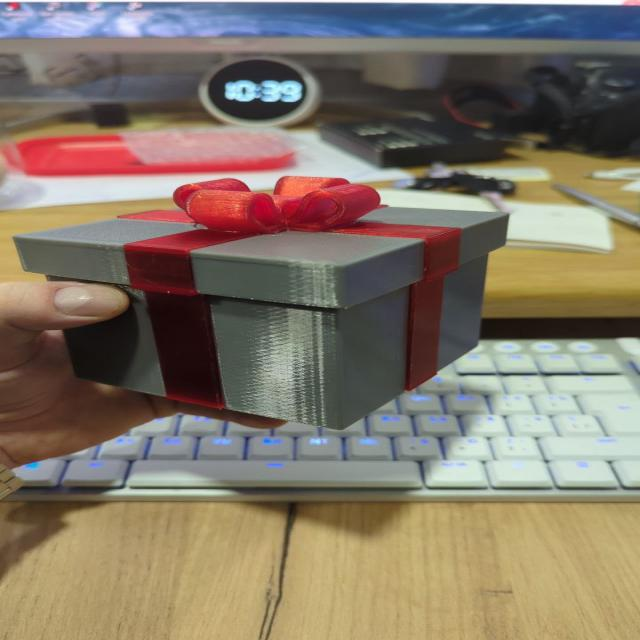Without deffect: (15, 165, 531, 443)
